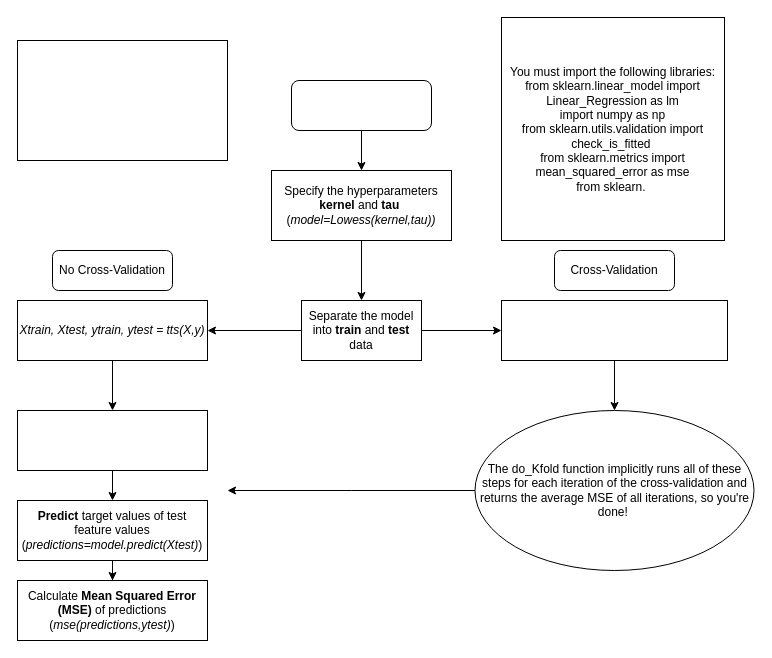
The diagram is 772 pixels wide and 658 high, and some of its shapes have lost their labels. The box of each missing label's shape, as (x1, y1, x2, y2) in pixels:
Diagram for Performing Lowess with Multiple Features: (16, 40, 228, 160)
do_Kfold(X,y): (500, 300, 728, 360)
Find Data and Specify Features (X) and Target Variable (y): (290, 80, 432, 130)
Fit model on training data ( model.fit(Xtrain,ytrain) ): (16, 410, 208, 470)
